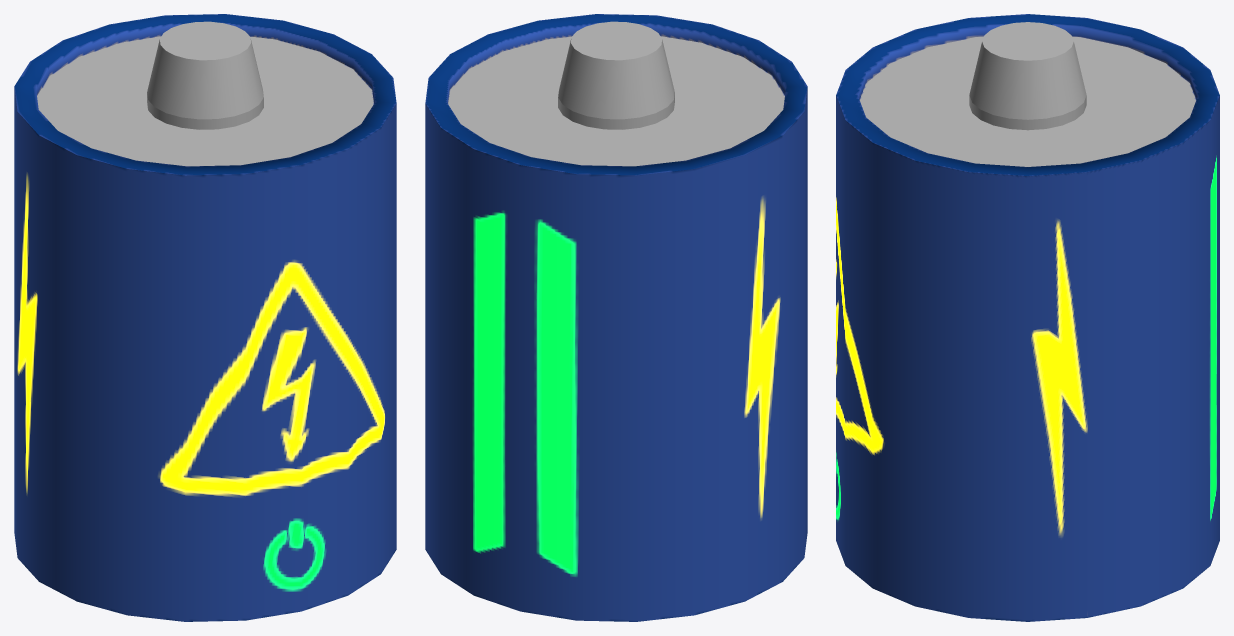
The model's file is Batería.glb.
3 renders of one model, left to right at view 1: azimuth 30°, elevation 25°; view 2: azimuth 150°, elevation 25°; view 3: azimuth 270°, elevation 25°, orthographic.
Visible parts, largest first — view 1: Cylinder; view 2: Cylinder; view 3: Cylinder.
Part boxes in pixels (x1,y1,x2,y2): Cylinder: [14, 14, 396, 621]; Cylinder: [425, 14, 807, 621]; Cylinder: [836, 14, 1219, 621].
Bounding box in the file's own units: 2 × 3.03 × 2.
1 material, 1 textured.
